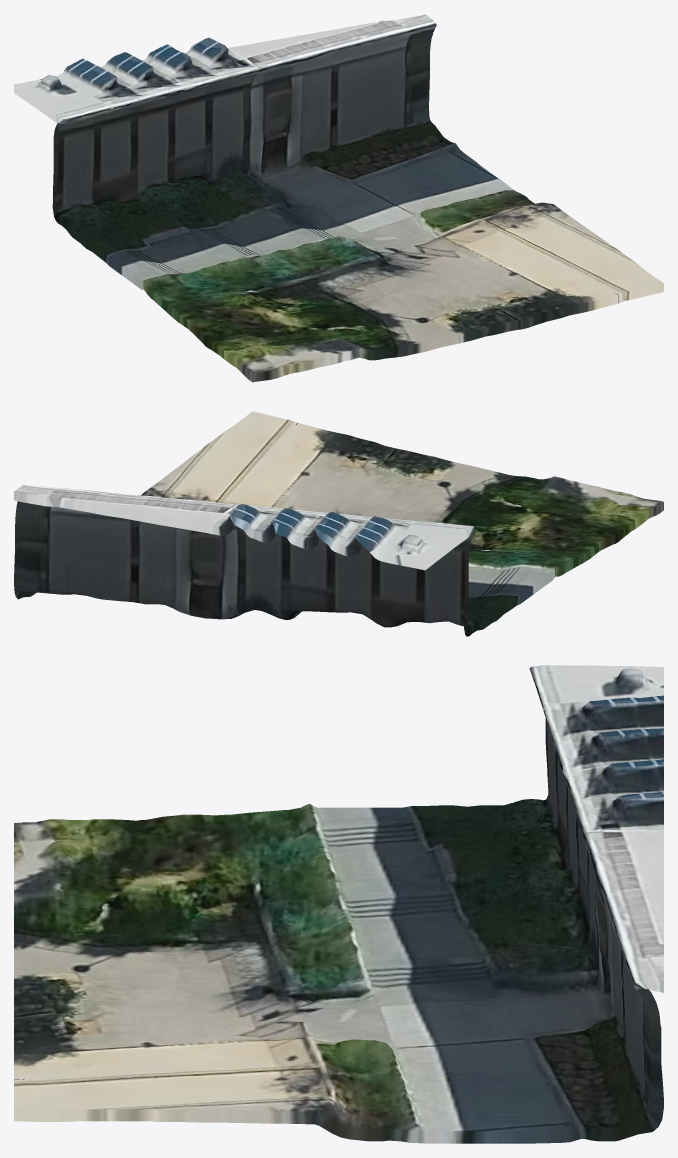
File: z20-167734-405194-h0-yup-uvflip-v3-world.glb
3 views of the same model, one above another, from view 1: azimuth 30°, elevation 25°; view 2: azimuth 150°, elevation 25°; view 3: azimuth 270°, elevation 25° (orthographic). The views are drawn at different scales.
Size of the model in its own units: 30.16 by 11.2 by 30.32.
1 material, 1 textured.
